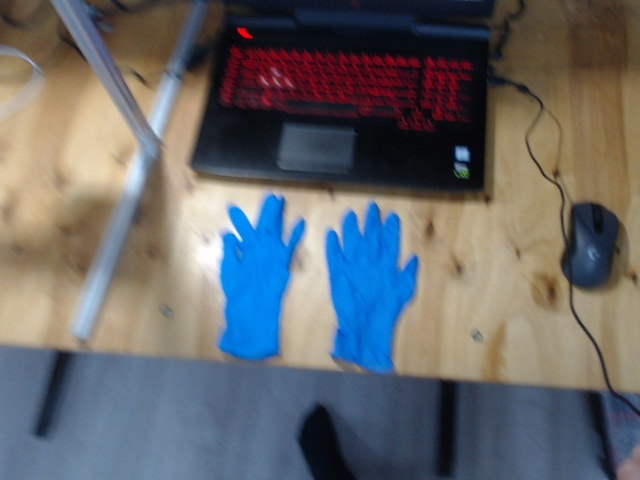medical_glove: (327, 202, 418, 373), (218, 194, 304, 359)
